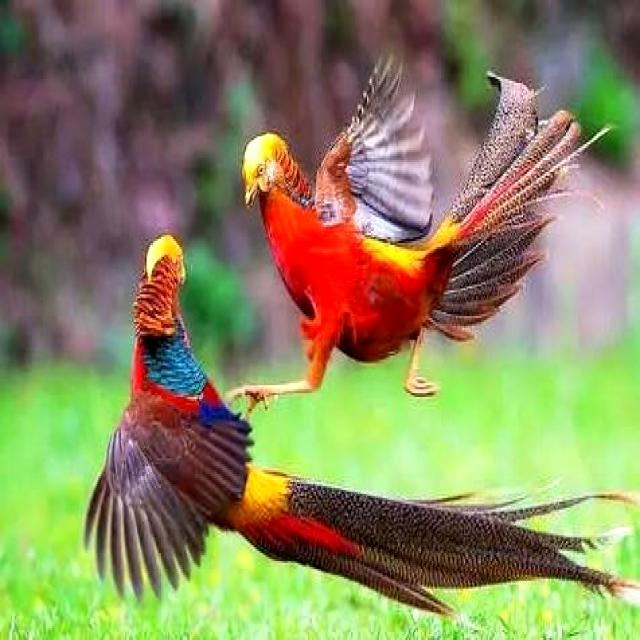Chrysolophus pictus feather: (247, 478, 640, 618), (433, 73, 615, 342)
